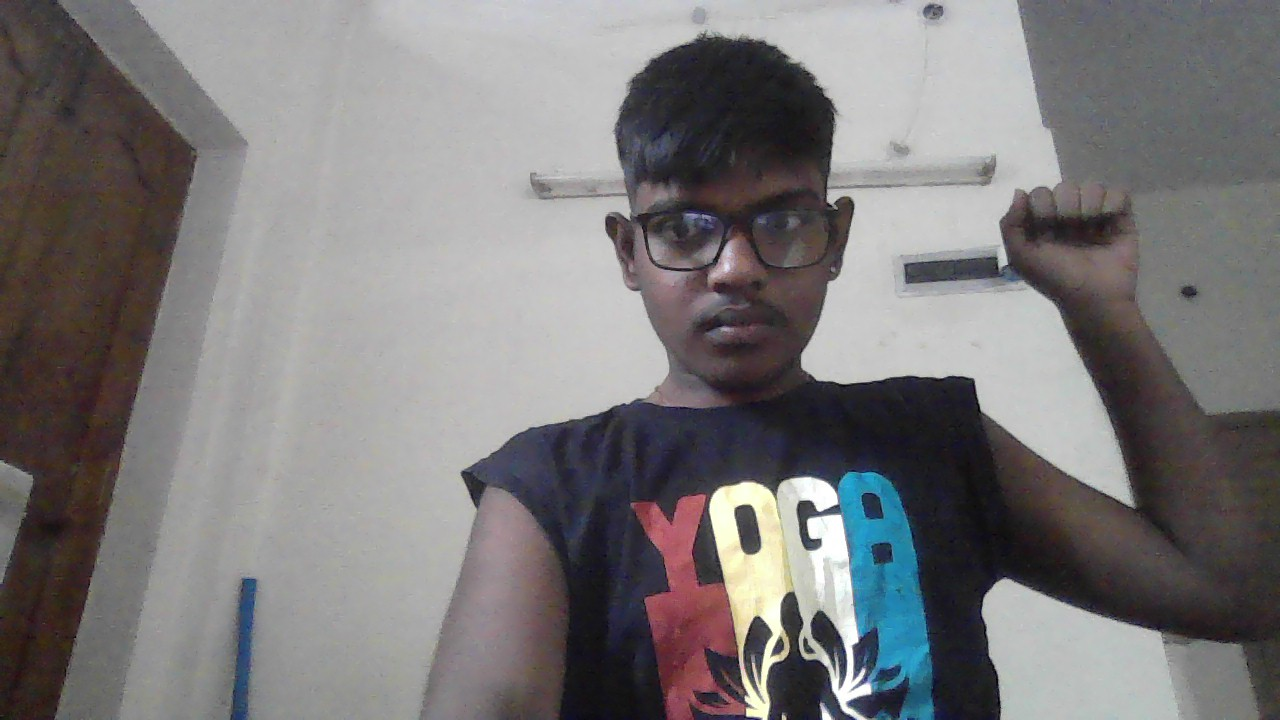A: (1000, 181, 1141, 315)
